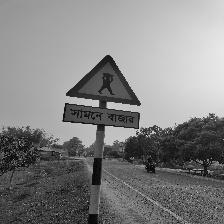Market-in-front: (64, 55, 142, 129)
